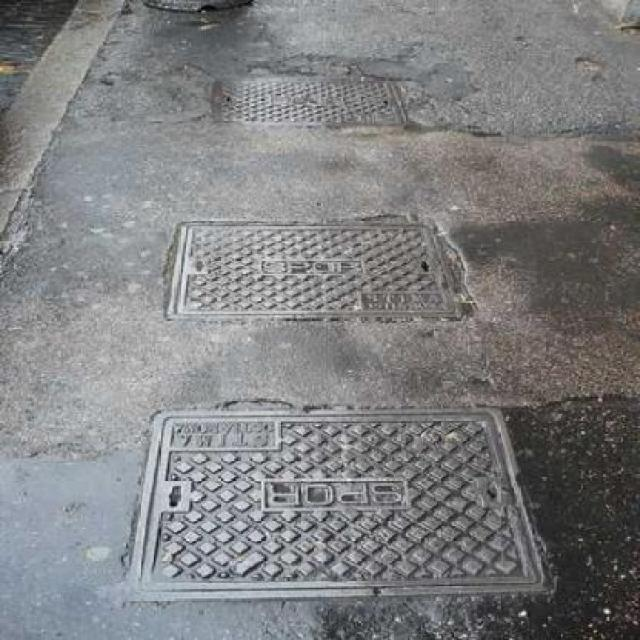Manhole: (130, 396, 552, 602), (159, 220, 482, 324), (230, 66, 415, 142)
